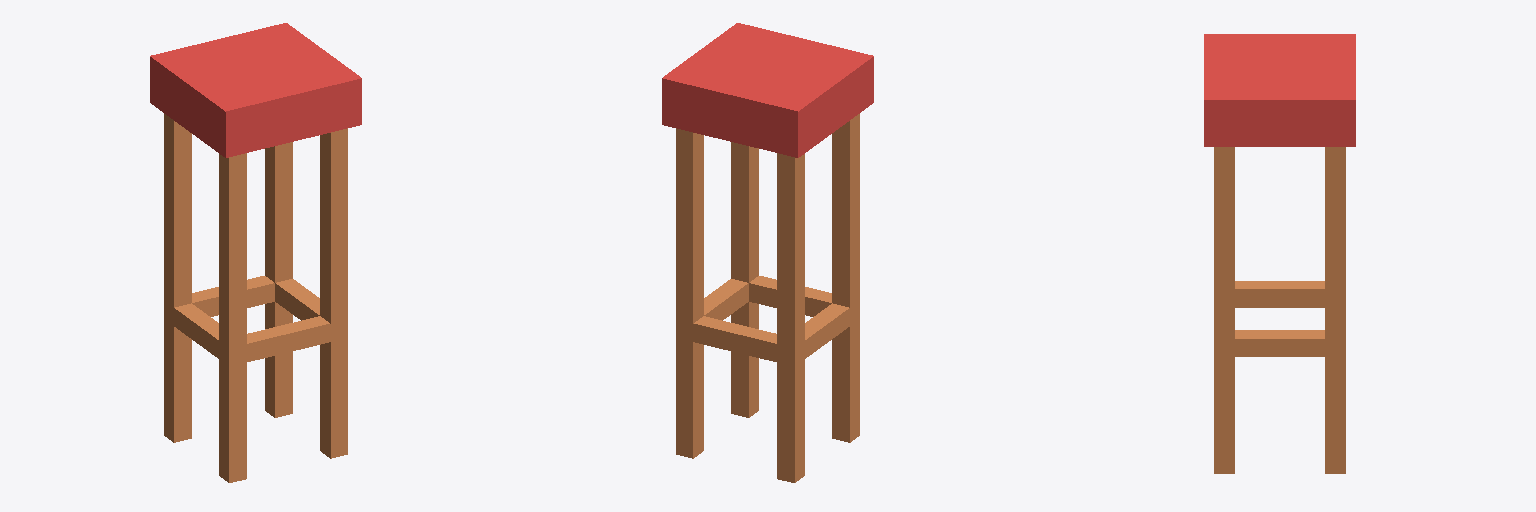
File: stoolBarSquare.obj
3 renders of one model, left to right at view 1: azimuth 30°, elevation 25°; view 2: azimuth 150°, elevation 25°; view 3: azimuth 270°, elevation 25°, orthographic.
Parts seen in each view (by area): view 1: stoolBarSquare; view 2: stoolBarSquare; view 3: stoolBarSquare.
Boxes of the visible parts, x1,y1,x2,y2 form: stoolBarSquare: [150, 23, 361, 482]; stoolBarSquare: [662, 23, 873, 482]; stoolBarSquare: [1204, 34, 1355, 473].
Bounding box in the file's own units: 0.1535 × 0.405 × 0.1476.